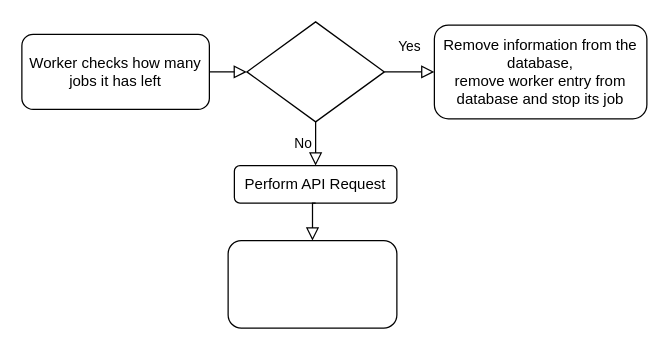
Image size: 669x350. Some labels were removed from this diagram. Each missing label, with the centre of its shape:
"no more jobs?" belongs at (x=315, y=71).
"Update local database with response and decrement number of jobs" belongs at (x=312, y=283).
